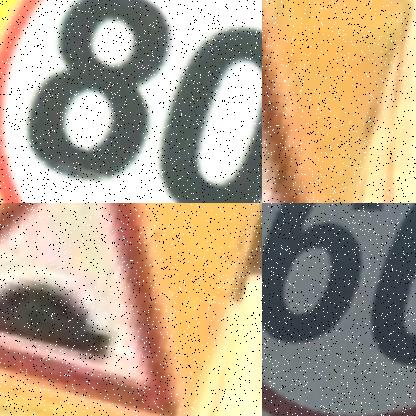Speed Breaker Ahead: (262, 0, 404, 203)
Speed Limit -60 kmph-: (262, 203, 416, 416)
Speed Limit -80 kmph-: (0, 0, 262, 203)
